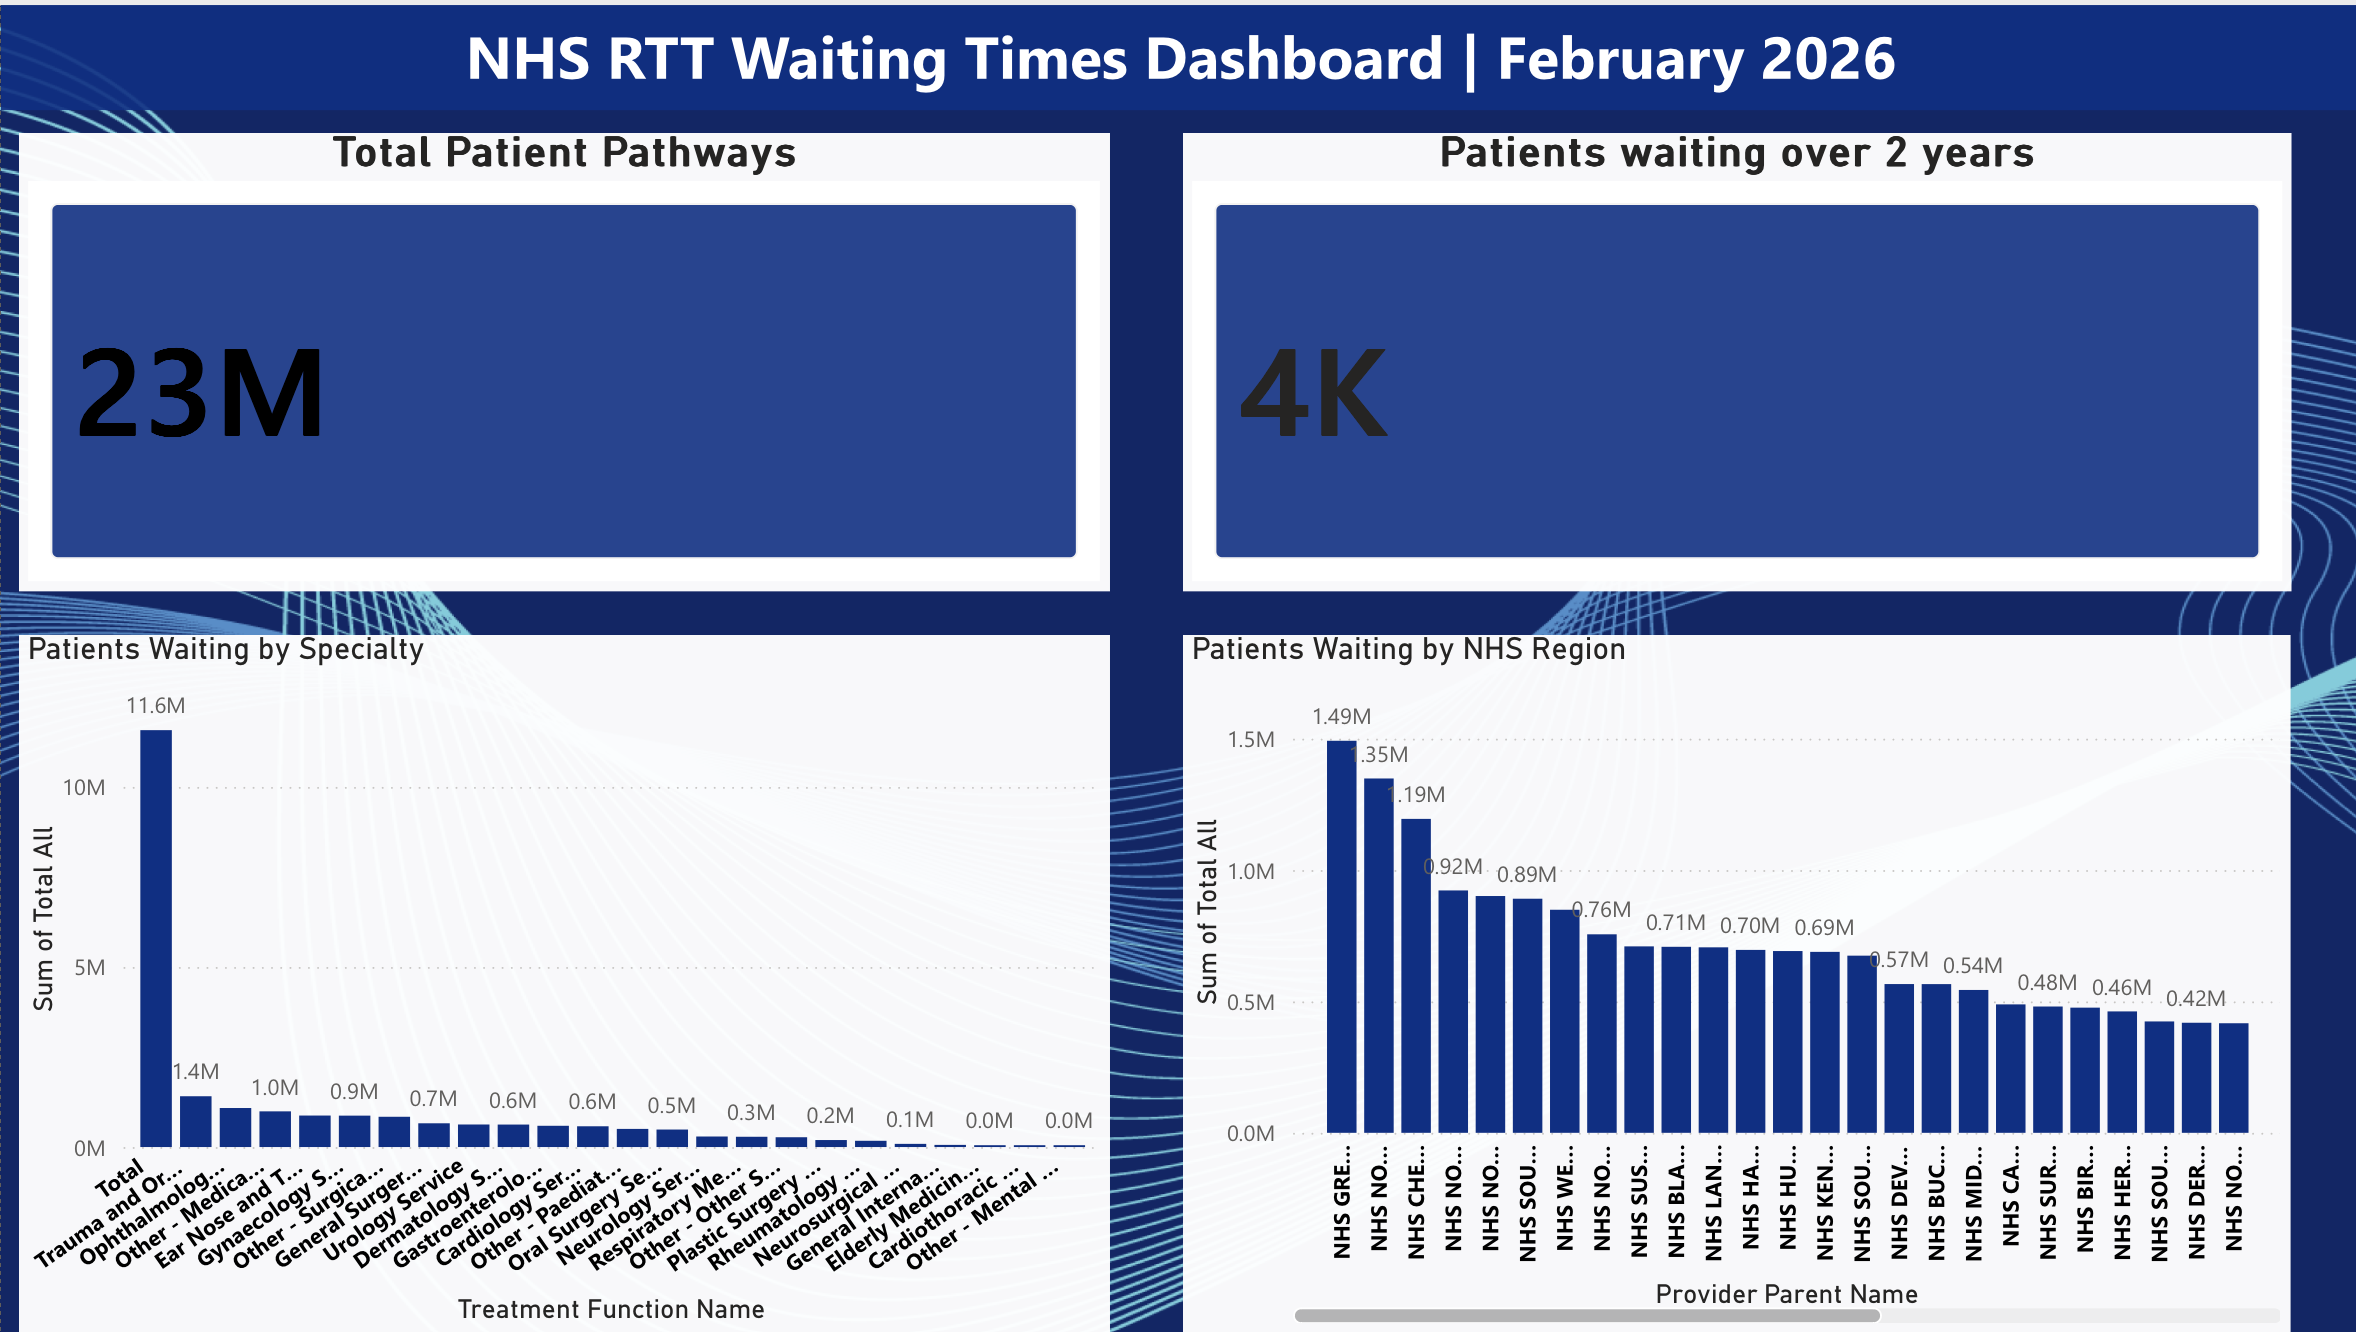

Layout of this report page (visuals, bound fields, positions):
{"tool":"powerbi","page":{"name":"Page 1","canvas":[1280,720],"ordinal":0},"visuals":[{"type":"cardVisual","title":"Total Patient Pathways","fields":{"Data":["Sum(20260228-RTT-February-2026-full-extract.Total All)"]},"box":[9.5,69.6,591.7,248.4],"z":0},{"type":"columnChart","title":"Patients Waiting by Specialty","fields":{"Category":["20260228-RTT-February-2026-full-extract.Treatment Function Name"],"Y":["Sum(20260228-RTT-February-2026-full-extract.Total All)"]},"box":[9.5,341.8,591.7,378.1],"z":1},{"type":"columnChart","title":"Patients Waiting by NHS Region","fields":{"Y":["Sum(20260228-RTT-February-2026-full-extract.Total All)"],"Category":["20260228-RTT-February-2026-full-extract.Provider Parent Name"]},"box":[640.8,341.8,601.2,378.1],"z":2},{"type":"cardVisual","title":"Patients waiting over 2 years","fields":{"Data":["Sum(20260228-RTT-February-2026-full-extract.Gt 104 Weeks SUM 1)"]},"box":[640.8,69.6,601.2,248.4],"z":3},{"type":"textbox","box":[0,0,1280,57],"z":4}]}

Visuals, with their boxes in screenshot pixels (x1, y1, x2, y2), scaled from the page's 1280x720 canvas onto the 2356x1332 screenshot:
"Total Patient Pathways" cardVisual: {"left": 17, "top": 129, "right": 1107, "bottom": 588}
"Patients Waiting by Specialty" columnChart: {"left": 17, "top": 632, "right": 1107, "bottom": 1331}
"Patients Waiting by NHS Region" columnChart: {"left": 1179, "top": 632, "right": 2286, "bottom": 1331}
"Patients waiting over 2 years" cardVisual: {"left": 1179, "top": 129, "right": 2286, "bottom": 588}
textbox: {"left": 0, "top": 0, "right": 2355, "bottom": 105}
